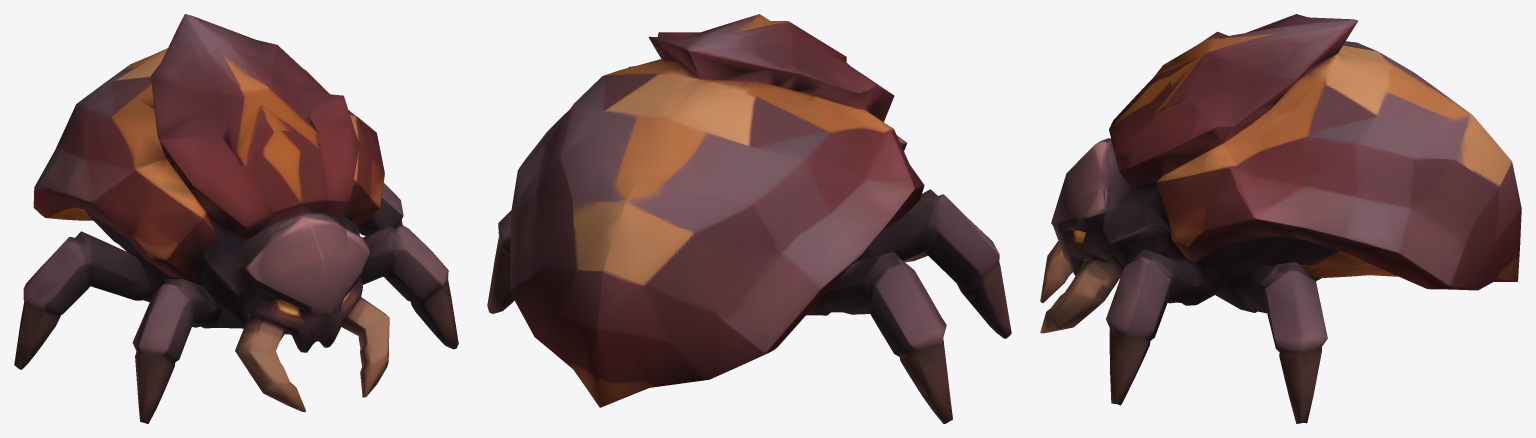
Rendered from bug.glb.
3 views of the same model, side by side, from view 1: azimuth 30°, elevation 25°; view 2: azimuth 150°, elevation 25°; view 3: azimuth 270°, elevation 25° (orthographic). The views are drawn at different scales.
Visible parts, largest first — view 1: Bug; view 2: Bug; view 3: Bug.
Boxes of the visible parts, x1=… form: Bug: x1=14, y1=14, x2=458, y2=423; Bug: x1=487, y1=14, x2=1011, y2=423; Bug: x1=1040, y1=14, x2=1521, y2=423.
Size of the model in its own units: 1.45 by 1.01 by 1.45.
1 material, 1 textured.
